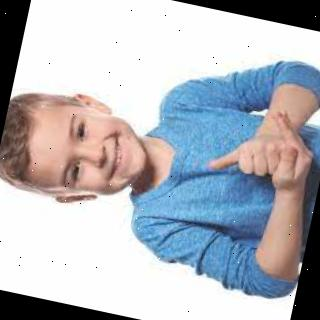Help: (193, 90, 320, 206)
